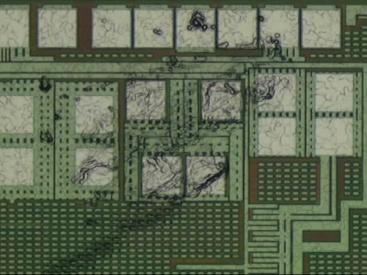SCRATCH: (38, 34, 298, 275)
